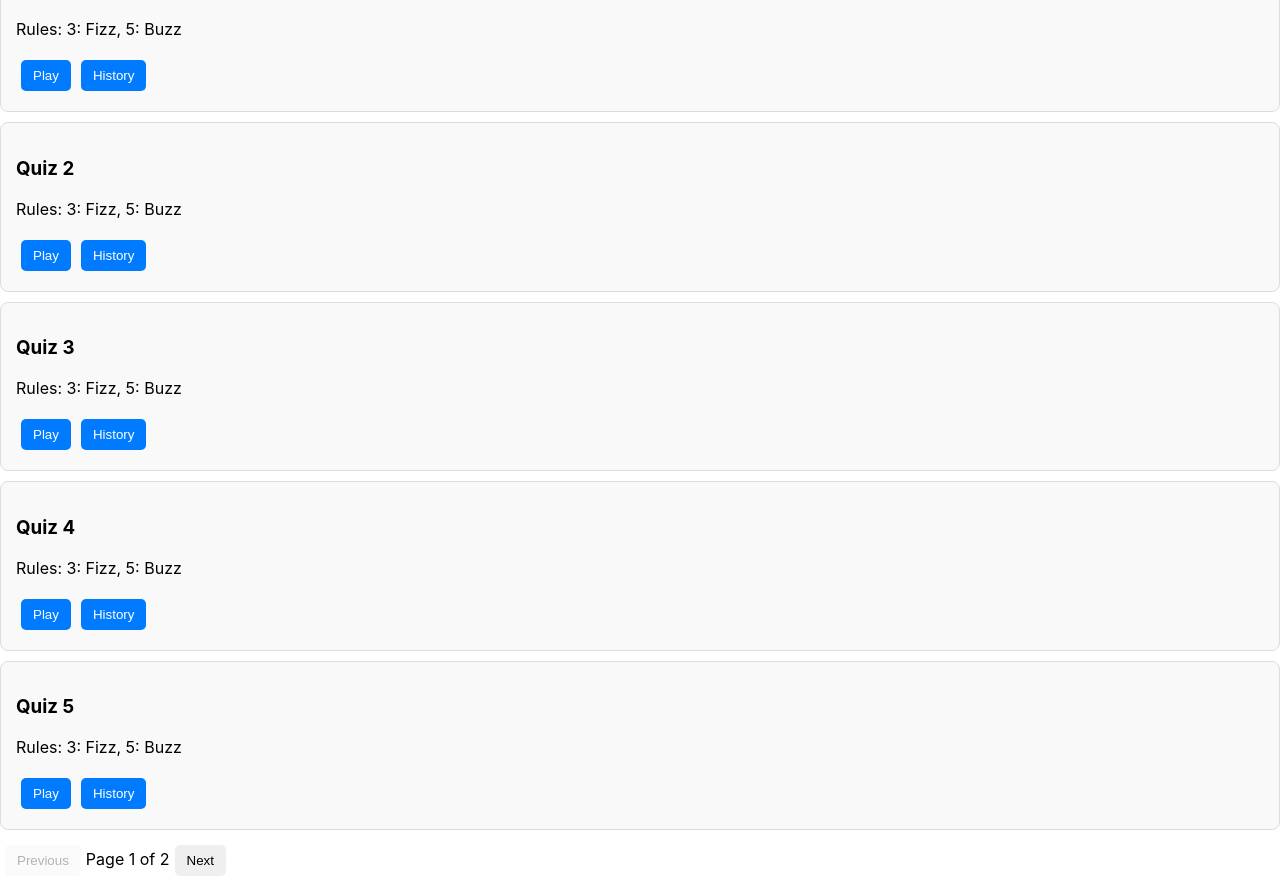
Test: QuizzesPage Component › navigation between pages works correctly
The image size is (1280, 881).
(page scrolled)
# Click on "Next" button
Click the button "Next" at (200, 860), box [174,845,226,876]
(page scrolled)
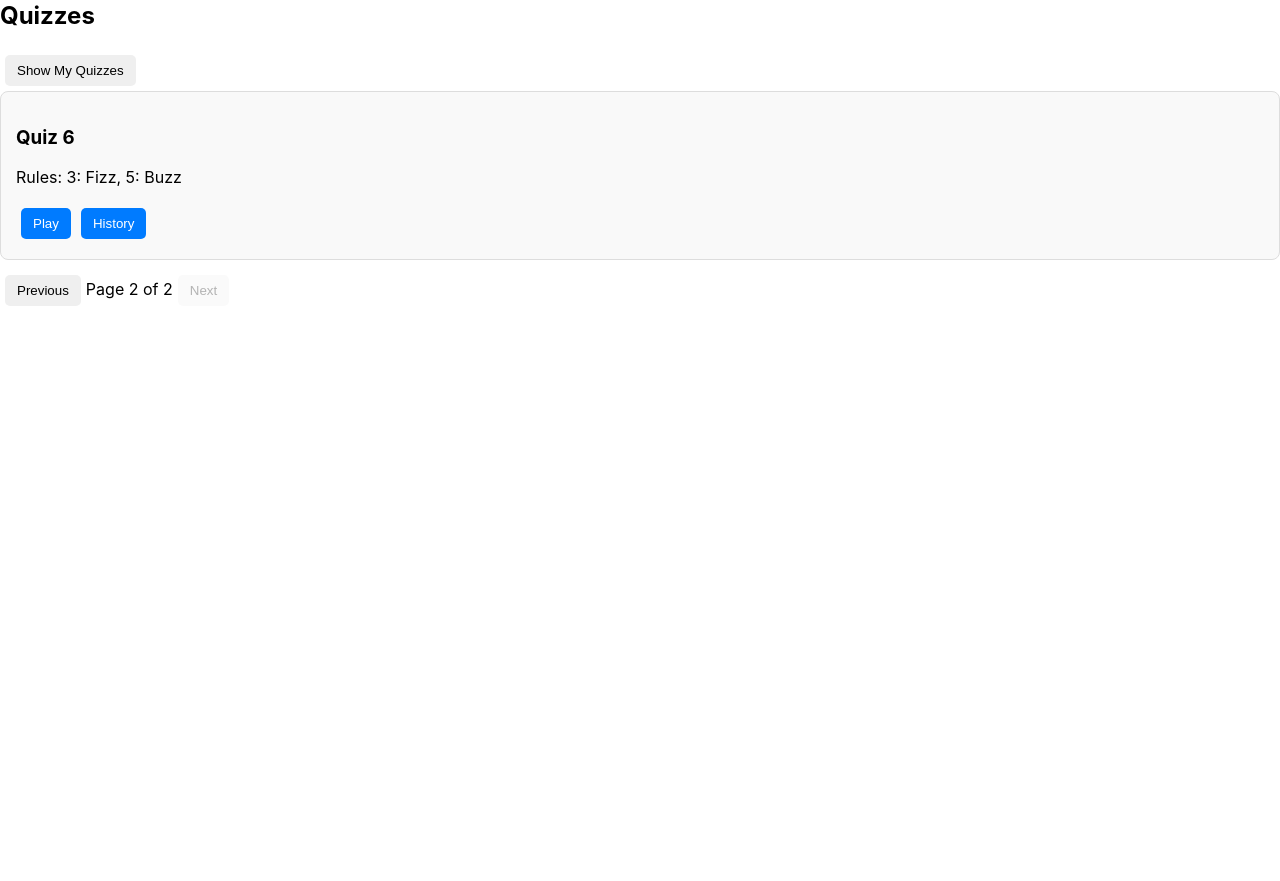
Check: the text "Page 2 of 2" is shown, box [86,279,173,299]
Check: the heading "Quiz 6" is shown, box [16,126,74,148]
# Click on "Previous" button
Click the button "Previous" at (43, 291), box [5,275,81,306]
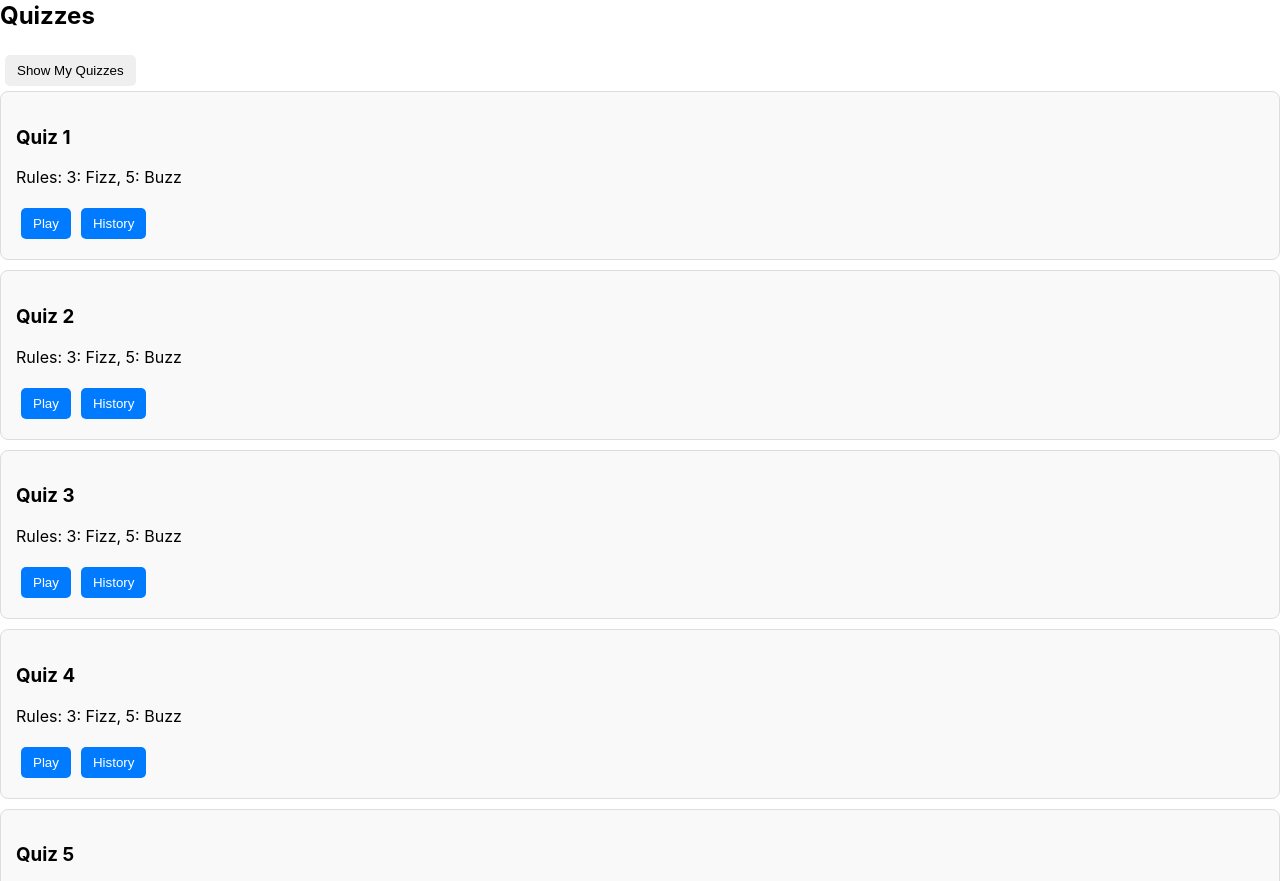
Check: the heading "Quiz 1" is shown, box [16,126,70,148]
